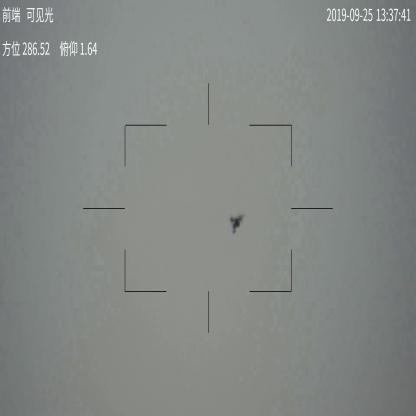uav: (227, 211, 244, 237)
